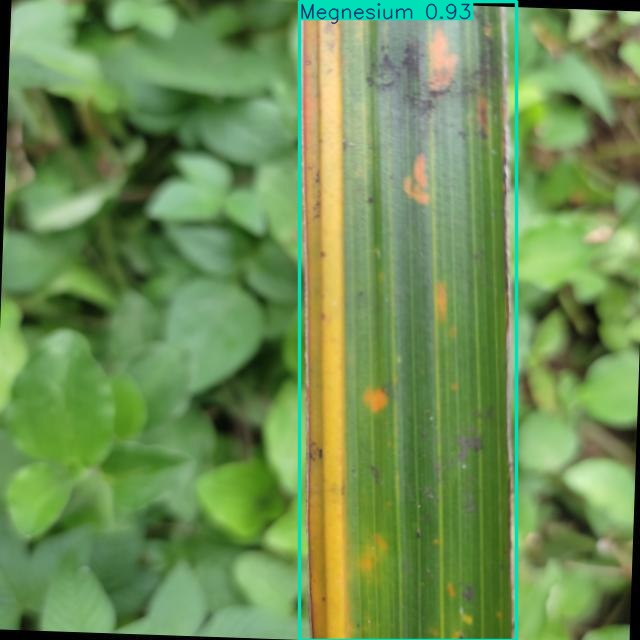Megnesium: (300, 1, 516, 640)
